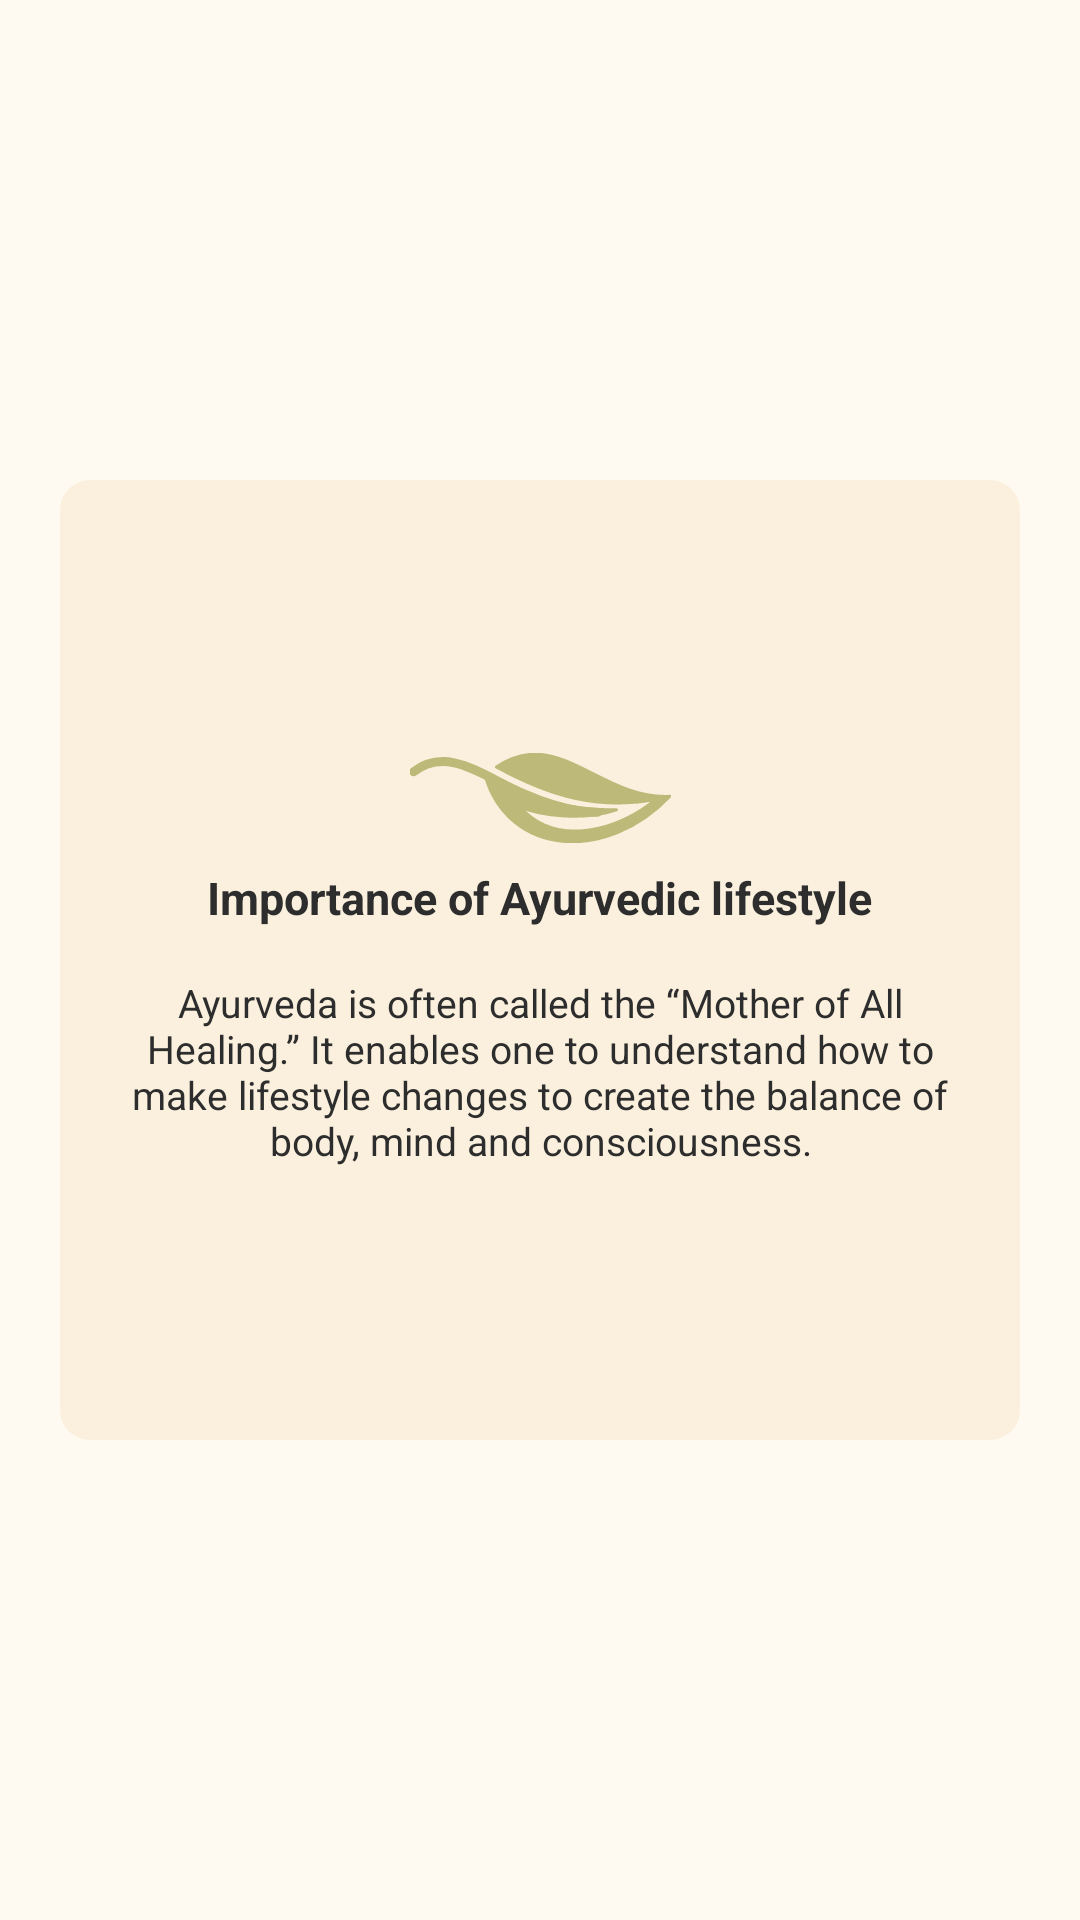

Icon bounding boxes for this 1080*1920 phone screenshot, format (x1, y1, x2, y2):
leaf: (410, 753, 671, 843)
